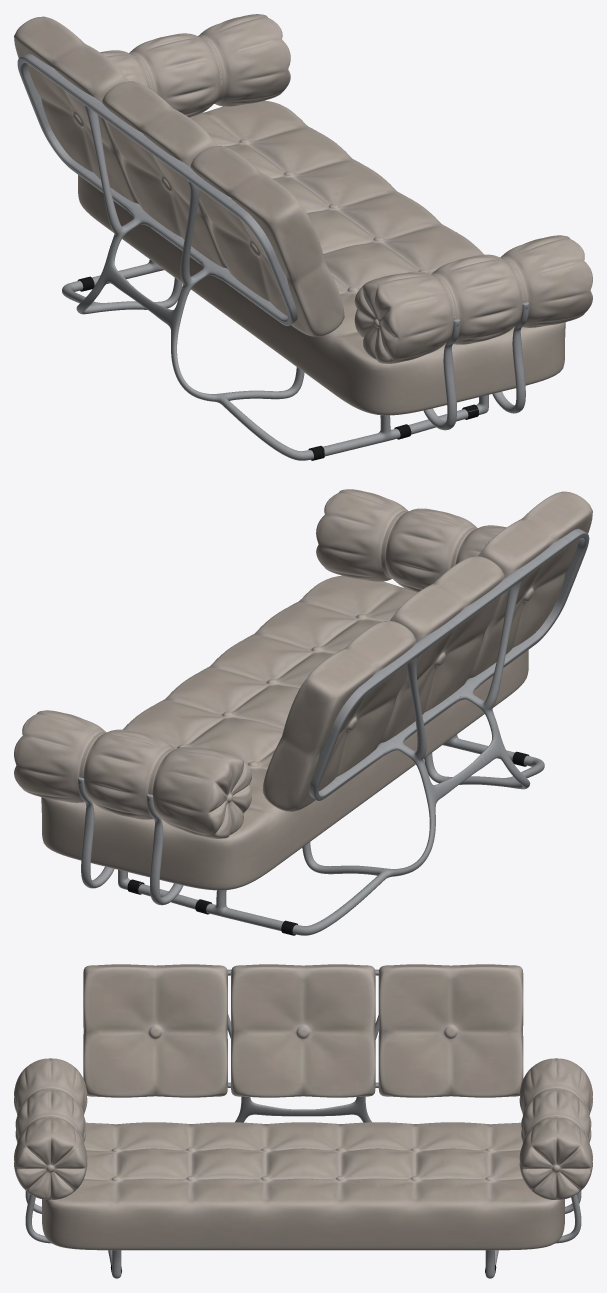
Rendered from sofa5.glb.
The picture shows the model from 3 angles, top to bottom: view 1: azimuth 30°, elevation 25°; view 2: azimuth 150°, elevation 25°; view 3: azimuth 270°, elevation 25°; orthographic projection. The views are drawn at different scales.
Parts seen in each view (by area): view 1: defaultMaterial (×2); view 2: defaultMaterial (×2); view 3: defaultMaterial (×2).
Boxes of the visible parts, <box> form: defaultMaterial (×2): <box>14,14,592,460</box>; defaultMaterial (×2): <box>14,489,592,935</box>; defaultMaterial (×2): <box>14,964,592,1278</box>.
Bounding box in the file's own units: 1.29 × 1.14 × 2.6.
Materials: 2 (2 with a texture image).
